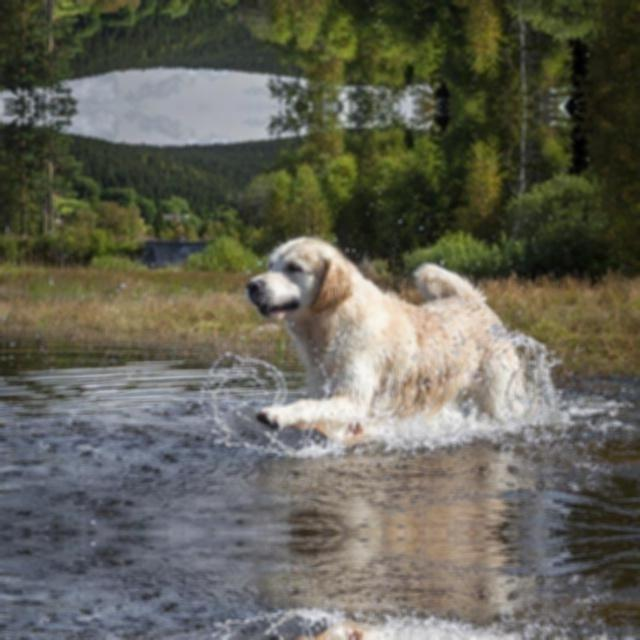dog: (230, 221, 512, 451), (230, 614, 512, 640)
